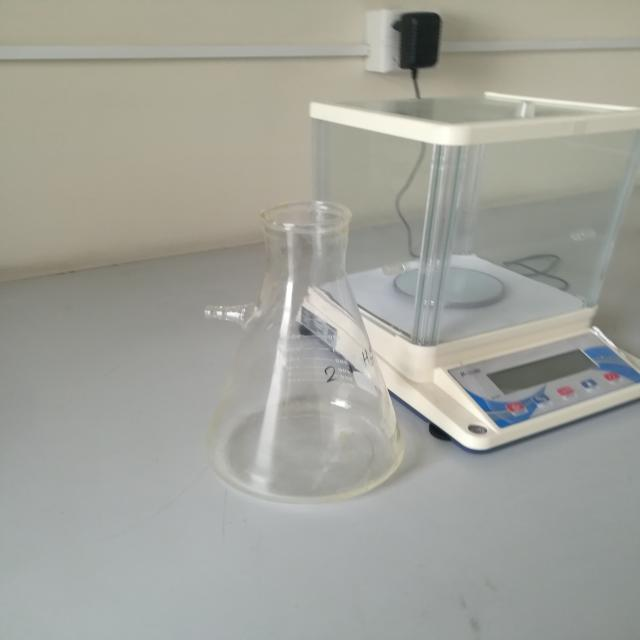Conical_Flask: (184, 189, 438, 519)
